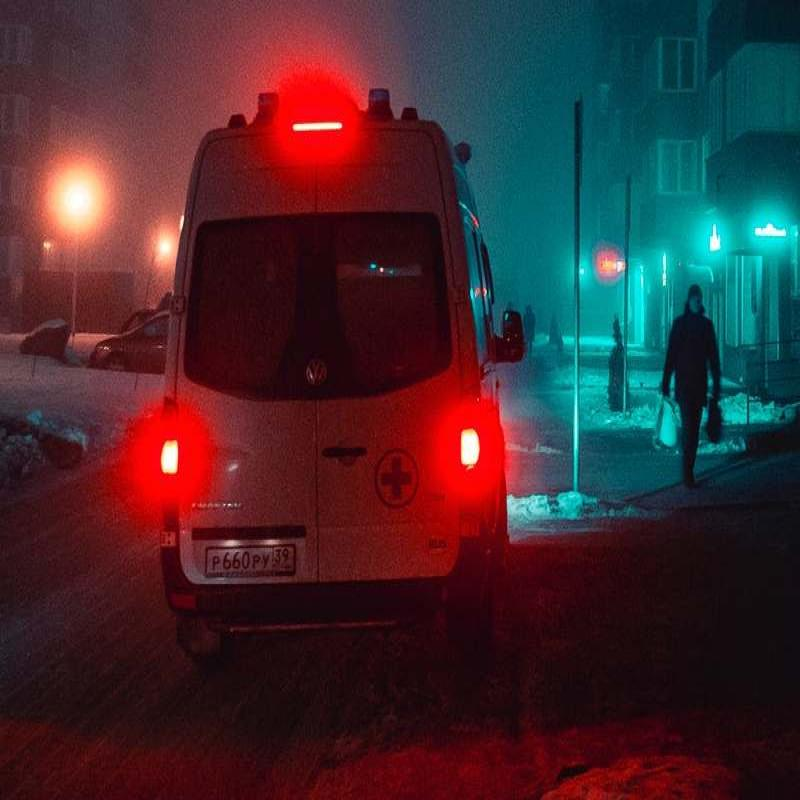ambulance: (164, 59, 497, 620)
